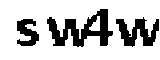4: (83, 5, 113, 50)
s: (11, 16, 40, 50)
w: (111, 13, 160, 51), (43, 15, 86, 49)
